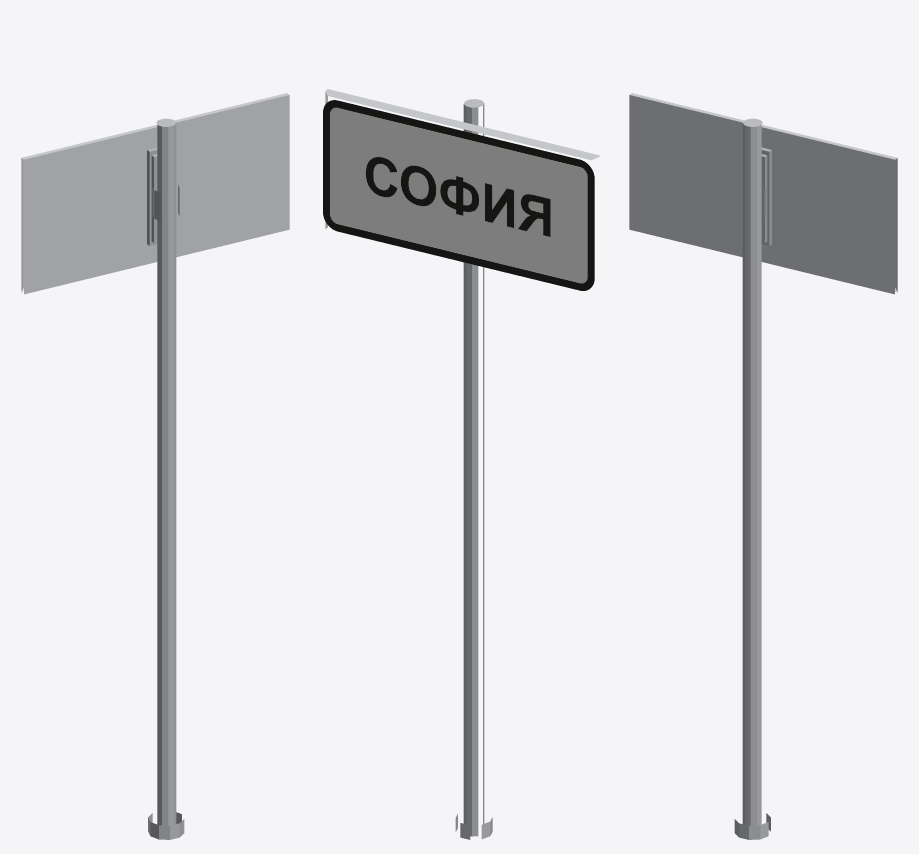
Rendered from sign_settlement.glb.
3 renders of one model, left to right at view 1: azimuth 30°, elevation 25°; view 2: azimuth 150°, elevation 25°; view 3: azimuth 330°, elevation 25°, orthographic. The views are drawn at different scales.
Visible parts, largest first — view 1: sign_settlement; view 2: sign_settlement; view 3: sign_settlement.
Boxes of the visible parts, left/top/right/bottom form: sign_settlement: left=21, top=93, right=289, bottom=839; sign_settlement: left=323, top=89, right=600, bottom=839; sign_settlement: left=629, top=93, right=897, bottom=839.
Size of the model in its own units: 1 by 2.7 by 0.1487.
5 materials, 1 textured.
